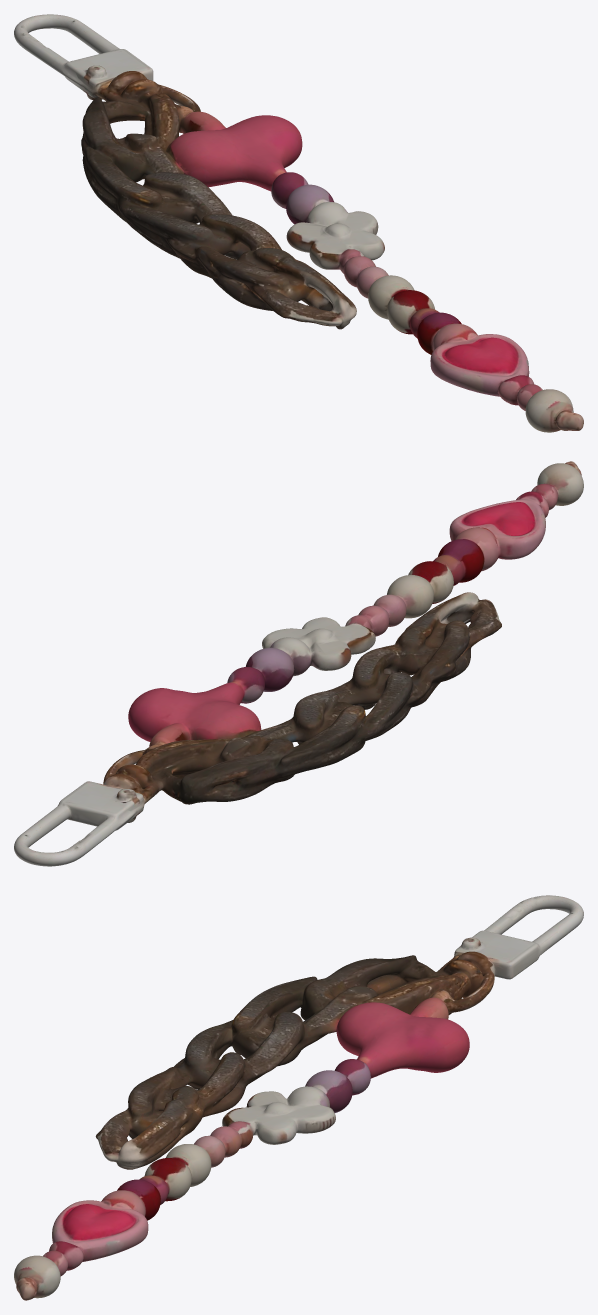
The model's file is charm-opt.glb.
3 views of the same model, one above another, from view 1: azimuth 30°, elevation 25°; view 2: azimuth 150°, elevation 25°; view 3: azimuth 330°, elevation 25° (orthographic). The views are drawn at different scales.
Parts seen in each view (by area): view 1: node_0; view 2: node_0; view 3: node_0.
Part boxes in pixels (x1,y1,x2,y2): node_0: (14, 14, 583, 432); node_0: (14, 461, 583, 866); node_0: (14, 895, 583, 1300).
Bounding box in the file's own units: 0.2662 × 0.0553 × 1.2.
1 material, 1 textured.
